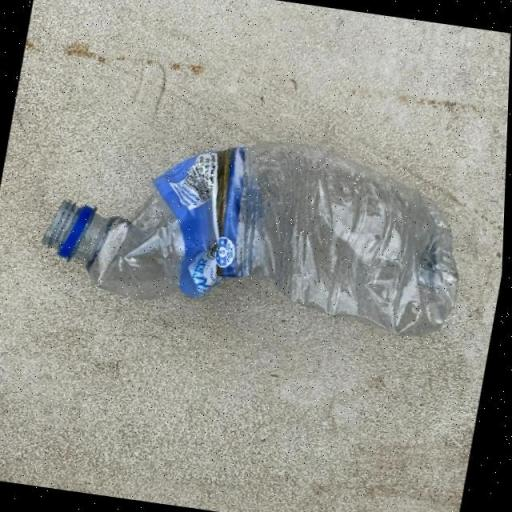plastic: (33, 108, 483, 345)
